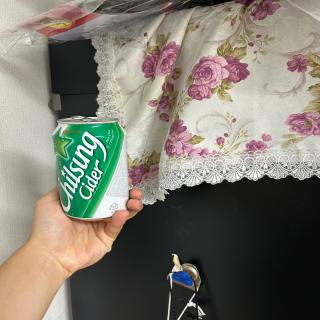chilsung: (50, 114, 133, 220)
